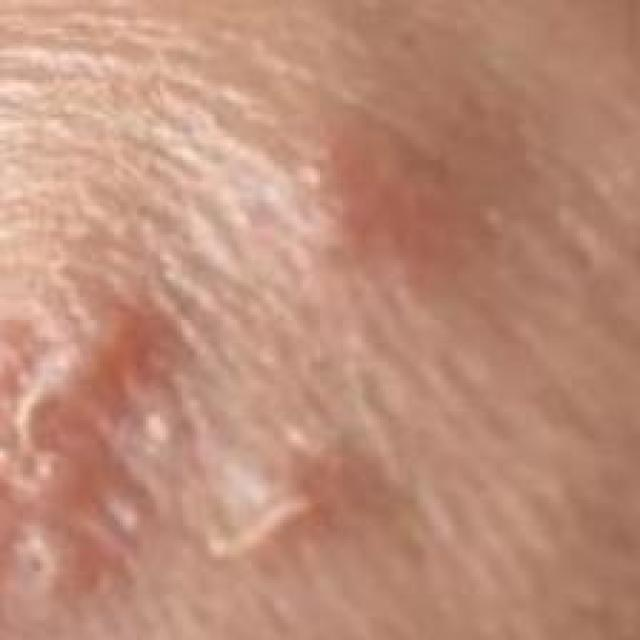monkeypox: (0, 62, 509, 640)
